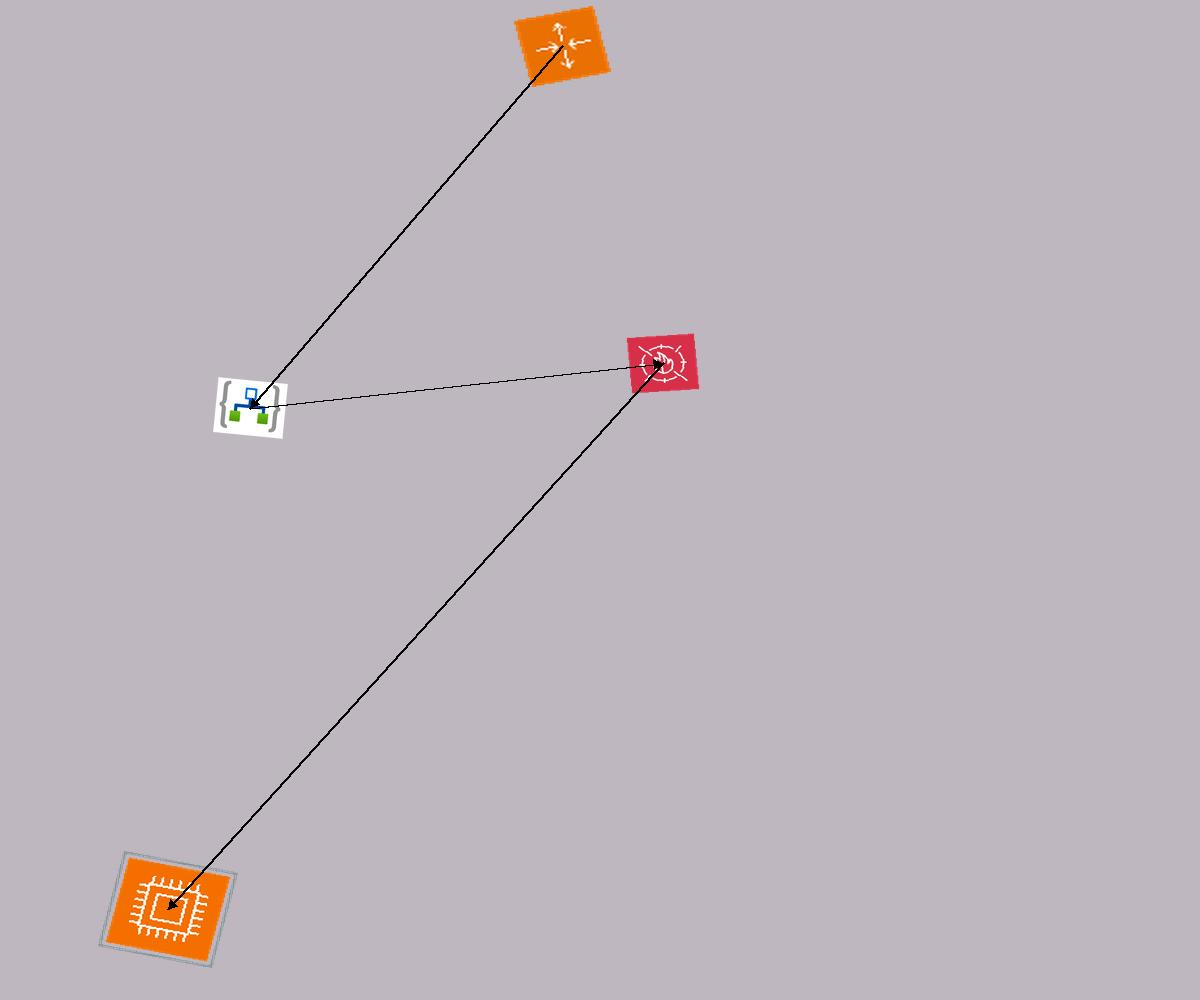AWS-Category_Compute: (98, 851, 238, 968)
AWS-Scaling-group: (514, 6, 611, 87)
AWS-WAF: (626, 333, 700, 394)
Azure_integration-204-Logic-Apps: (213, 377, 288, 439)
